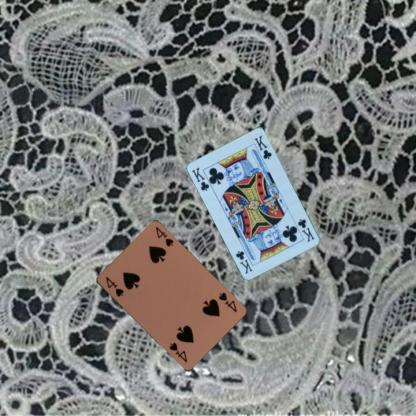4s: (216, 289, 238, 314), (103, 274, 125, 298)
Kc: (189, 165, 211, 192), (295, 216, 316, 243)
